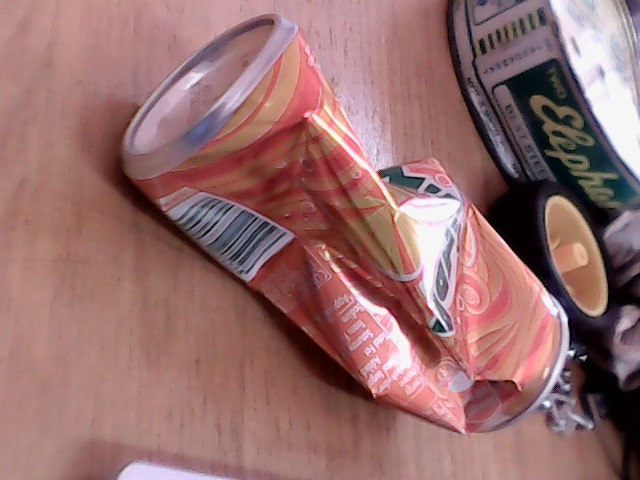Metal: (134, 119, 556, 414)
